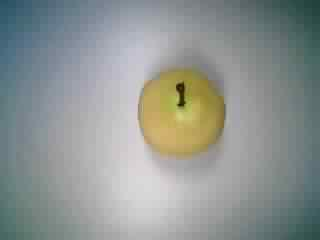pear: (121, 63, 235, 166)
